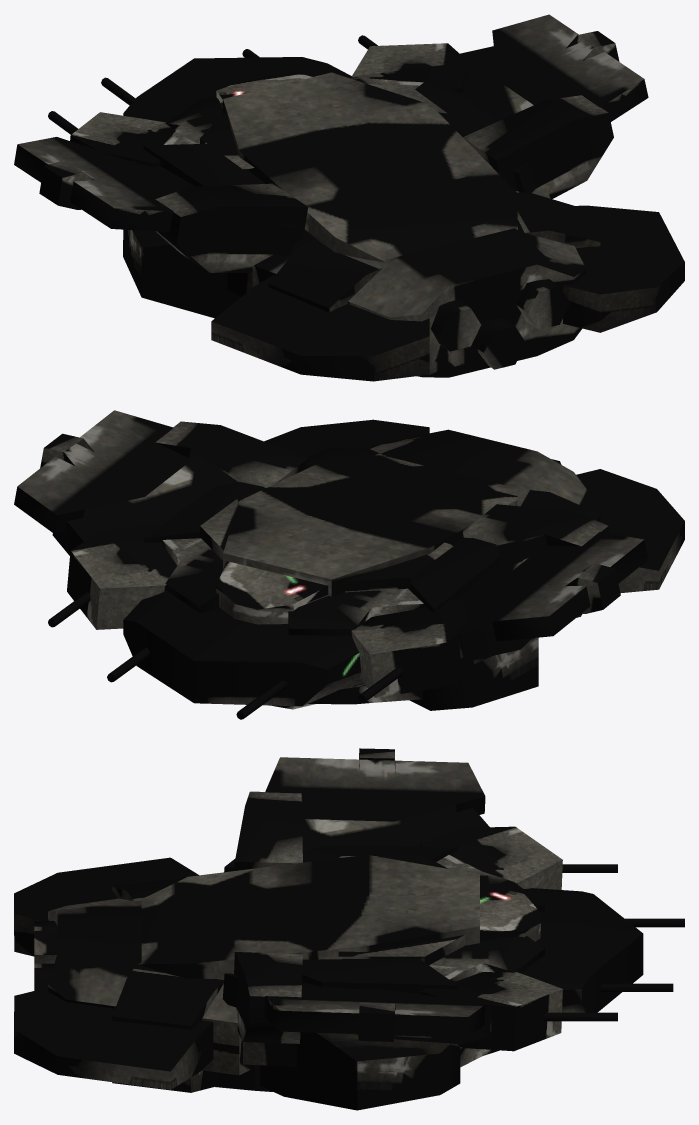
The model's file is ship09eSmall.fbx.
3 renders of one model, top to bottom at view 1: azimuth 30°, elevation 25°; view 2: azimuth 150°, elevation 25°; view 3: azimuth 270°, elevation 25°, orthographic. The views are drawn at different scales.
Visible parts, largest first — view 1: 00_Core, 06_Engine, 03_WingRight, 02_WingLeft, 04_RearLeft, 05_RearRight, 01_Nose; view 2: 00_Core, 03_WingRight, 02_WingLeft, 01_Nose, 06_Engine, 04_RearLeft, 05_RearRight; view 3: 00_Core, 02_WingLeft, 03_WingRight, 05_RearRight, 06_Engine, 01_Nose, 04_RearLeft.
Boxes of the visible parts, x1=… form: 00_Core: x1=48, y1=35, x2=600, y2=318; 06_Engine: x1=252, y1=191, x2=586, y2=377; 03_WingRight: x1=459, y1=14, x2=648, y2=198; 02_WingLeft: x1=14, y1=137, x2=308, y2=272; 04_RearLeft: x1=211, y1=275, x2=429, y2=381; 05_RearRight: x1=563, y1=205, x2=684, y2=332; 01_Nose: x1=101, y1=49, x2=351, y2=122; 00_Core: x1=48, y1=447, x2=600, y2=710; 03_WingRight: x1=14, y1=410, x2=307, y2=555; 02_WingLeft: x1=457, y1=504, x2=648, y2=662; 01_Nose: x1=107, y1=594, x2=365, y2=719; 06_Engine: x1=370, y1=429, x2=586, y2=504; 04_RearLeft: x1=576, y1=469, x2=684, y2=593; 05_RearRight: x1=264, y1=419, x2=429, y2=457; 00_Core: x1=112, y1=826, x2=617, y2=1110; 02_WingLeft: x1=225, y1=748, x2=489, y2=870; 03_WingRight: x1=222, y1=952, x2=491, y2=1044; 05_RearRight: x1=14, y1=987, x2=213, y2=1089; 06_Engine: x1=34, y1=898, x2=239, y2=1075; 01_Nose: x1=460, y1=888, x2=684, y2=1048; 04_RearLeft: x1=14, y1=857, x2=198, y2=956.
Size of the model in its own units: 19489 by 6002 by 20498.
1 material, 1 textured.
